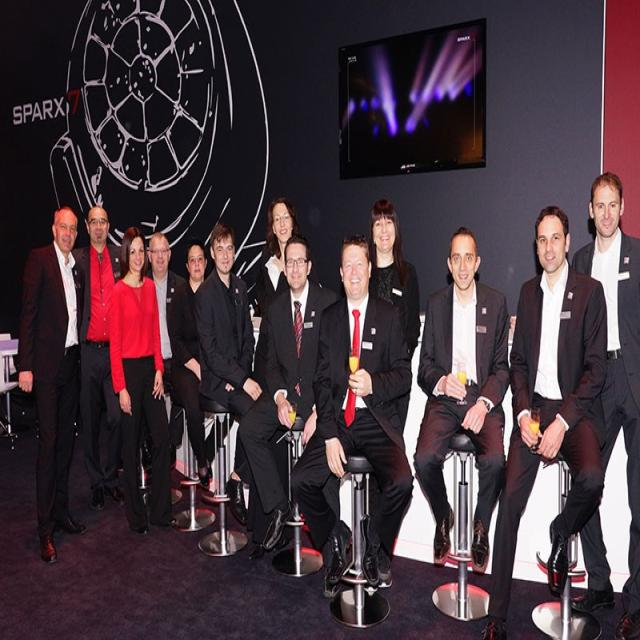body: (479, 198, 607, 639), (290, 230, 412, 602), (411, 224, 511, 572), (567, 171, 640, 635), (247, 242, 339, 554), (16, 200, 89, 568), (362, 196, 422, 592), (106, 222, 181, 538), (196, 215, 261, 533), (70, 204, 126, 510), (166, 235, 230, 483), (144, 231, 192, 444), (254, 194, 309, 316)
